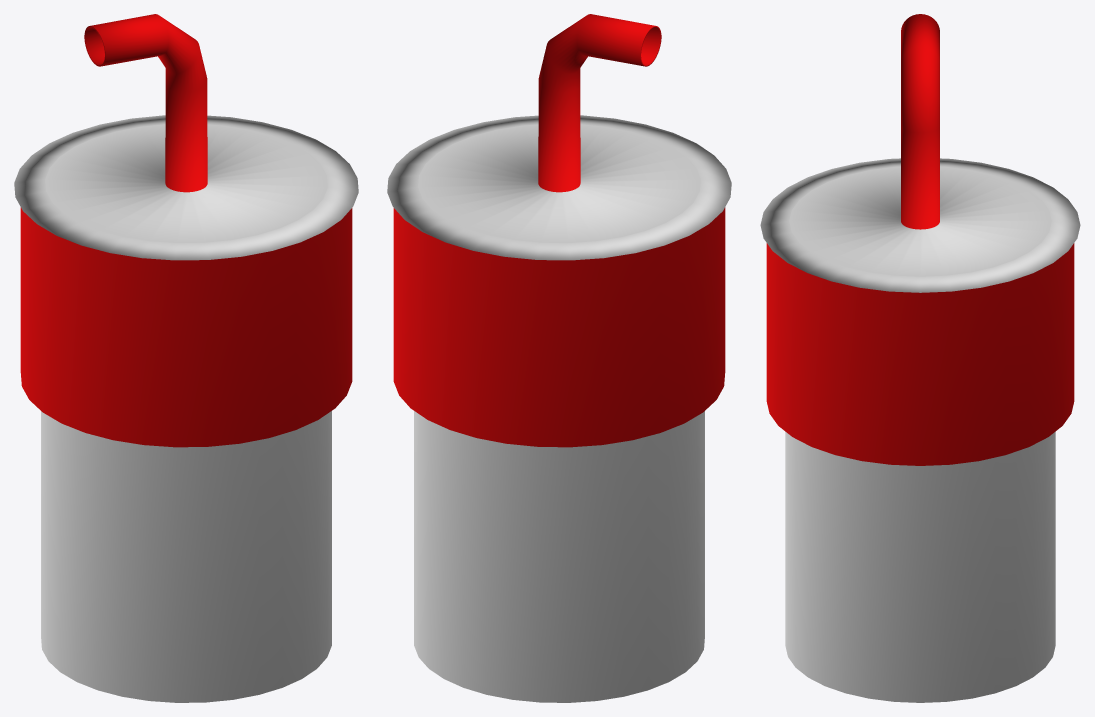
File: Drink Cosmetic.fbx
3 views of the same model, side by side, from view 1: azimuth 30°, elevation 25°; view 2: azimuth 150°, elevation 25°; view 3: azimuth 270°, elevation 25° (orthographic). The views are drawn at different scales.
Parts seen in each view (by area): view 1: Cylinder; view 2: Cylinder; view 3: Cylinder.
Part boxes in pixels (x1,y1,x2,y2): Cylinder: (14, 14, 358, 702); Cylinder: (387, 14, 731, 702); Cylinder: (760, 14, 1080, 702).
Bounding box in the file's own units: 54.02 × 110 × 54.02.
